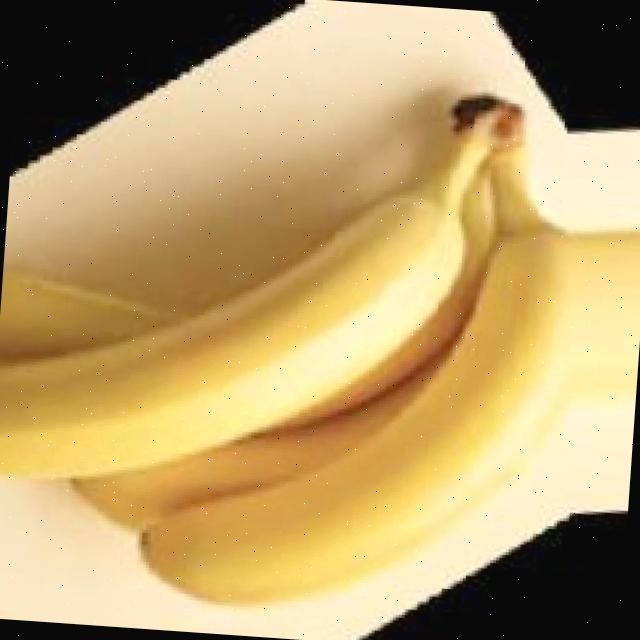banana: (0, 57, 586, 640)
